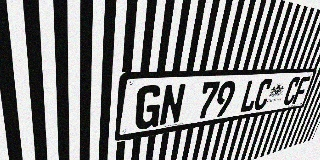7: (195, 81, 221, 120)
9: (213, 80, 237, 117)
C: (252, 78, 274, 111), (282, 77, 301, 106)
F: (292, 76, 311, 104)
G: (134, 85, 164, 131)
L: (239, 79, 261, 113)
N: (158, 83, 187, 127)
